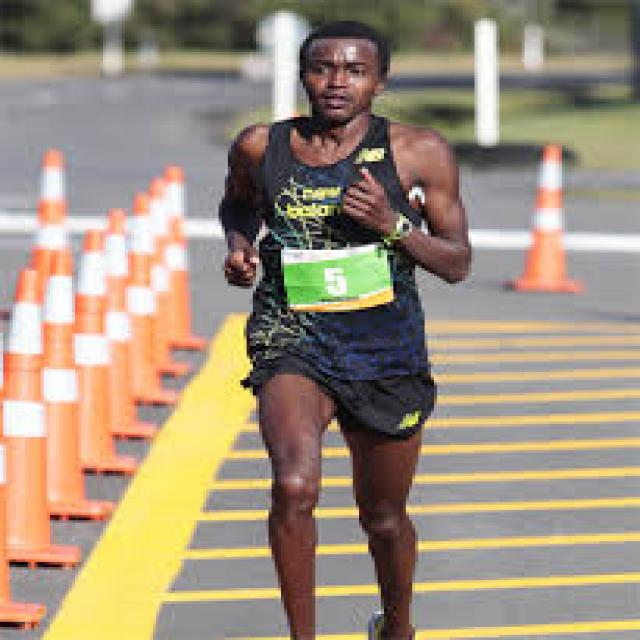running: (218, 21, 473, 640)
